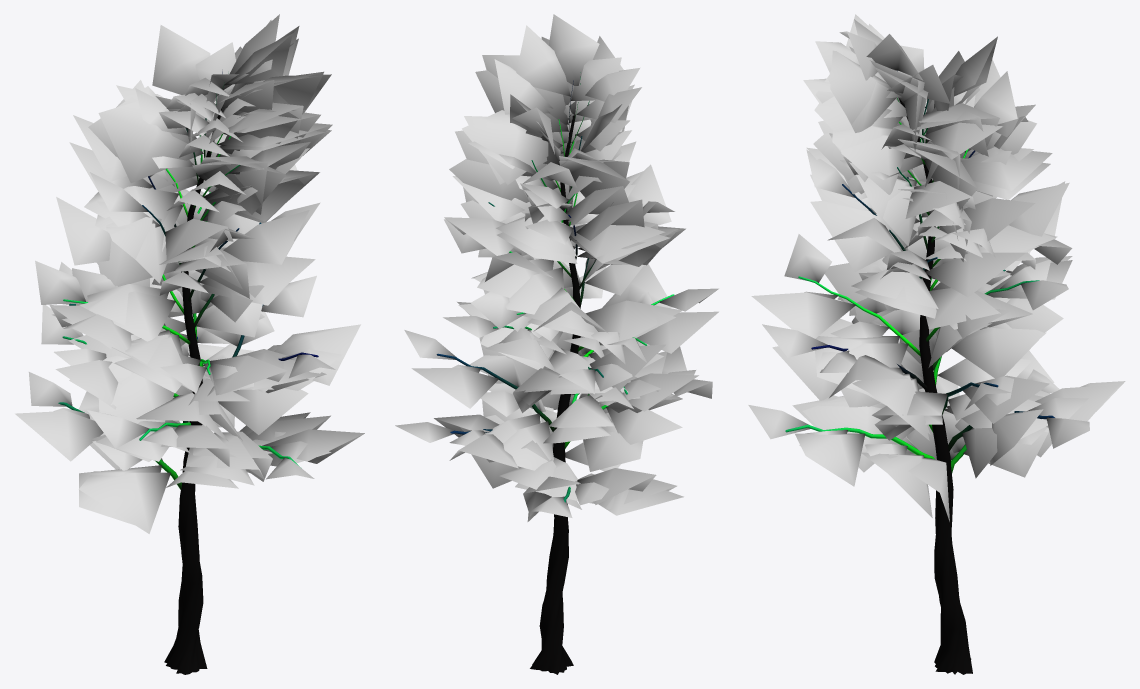
The model's file is aspen_01.fbx.
3 views of the same model, side by side, from view 1: azimuth 30°, elevation 25°; view 2: azimuth 150°, elevation 25°; view 3: azimuth 270°, elevation 25° (orthographic). The views are drawn at different scales.
Visible parts, largest first — view 1: aspen_01_LOD0; view 2: aspen_01_LOD0; view 3: aspen_01_LOD0.
Boxes of the visible parts, x1,y1,x2,y2 form: aspen_01_LOD0: (15,14,364,674); aspen_01_LOD0: (395,14,718,674); aspen_01_LOD0: (748,14,1125,674).
Size of what is drawn, in the model's own units: 1616 by 3465 by 1791.
